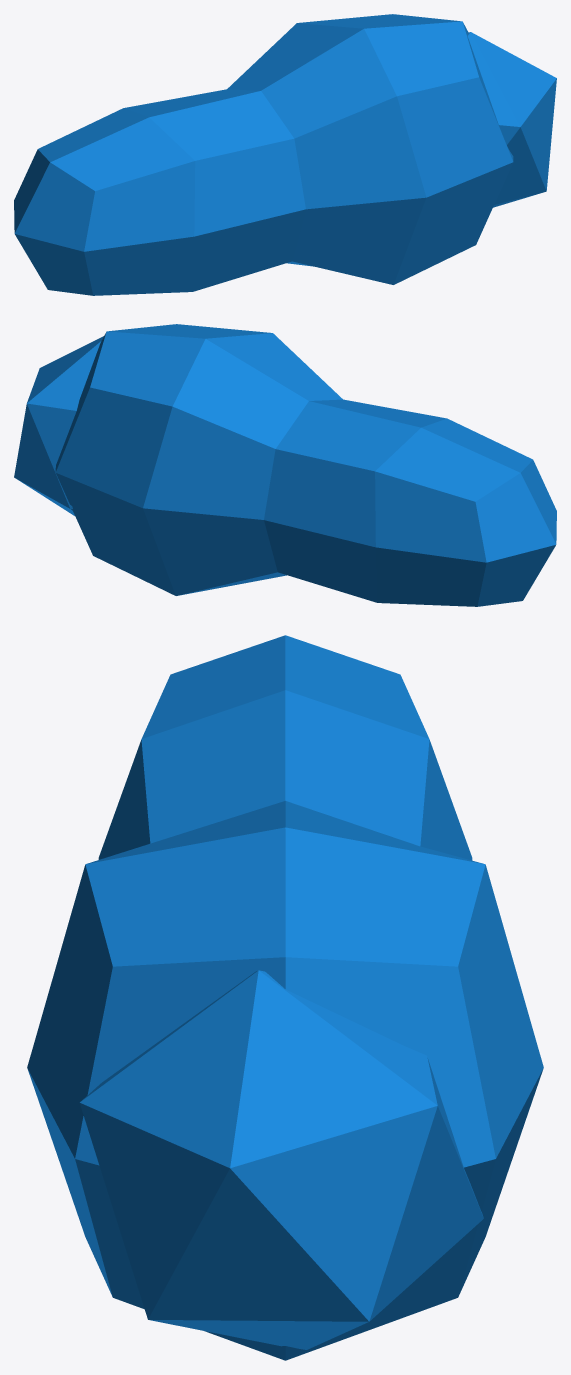
File: LEFT_UPPER_ARM.fbx
3 renders of one model, top to bottom at view 1: azimuth 30°, elevation 25°; view 2: azimuth 150°, elevation 25°; view 3: azimuth 270°, elevation 25°, orthographic. The views are drawn at different scales.
Visible parts, largest first — view 1: LEFT_SHOULDER; view 2: LEFT_SHOULDER; view 3: LEFT_SHOULDER.
Part boxes in pixels (box(x1,y1,x2,y2)): LEFT_SHOULDER: box(14, 14, 556, 295); LEFT_SHOULDER: box(14, 324, 556, 606); LEFT_SHOULDER: box(27, 635, 543, 1360).
Bounding box in the file's own units: 0.6258 × 0.2741 × 0.2649.
